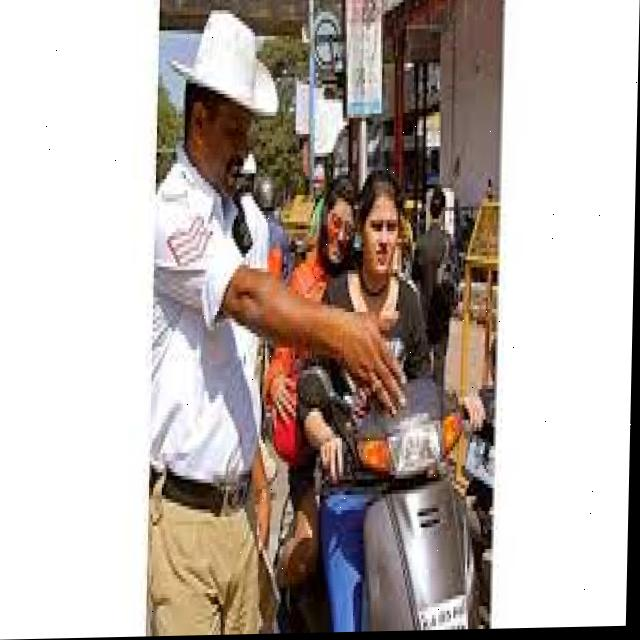without helmet: (355, 168, 408, 300)
